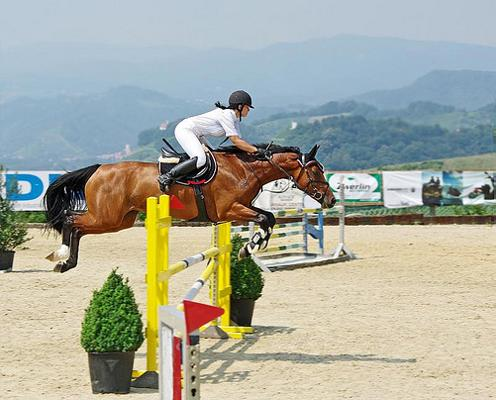person: (156, 89, 275, 195)
